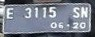plate: (3, 3, 92, 34)
